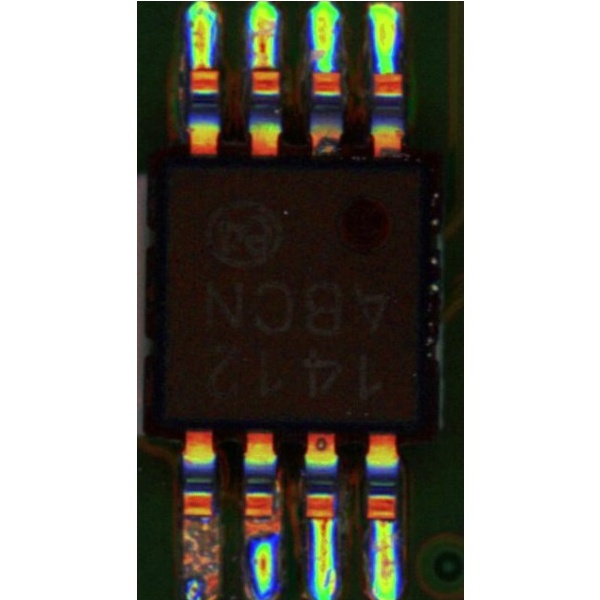Bad_podu: (315, 506, 330, 534), (252, 59, 274, 77), (373, 511, 392, 529), (192, 61, 211, 79)
